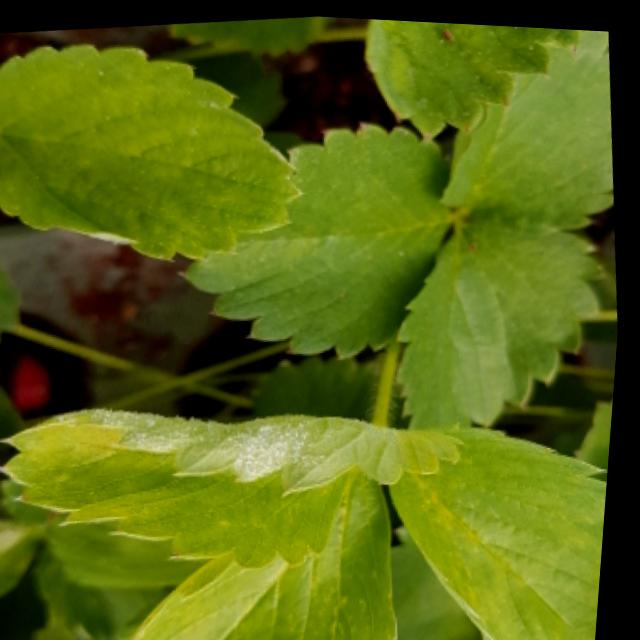Powdery Mildew Leaf: (0, 402, 467, 567), (0, 39, 305, 258), (393, 418, 614, 640), (0, 516, 47, 598)
